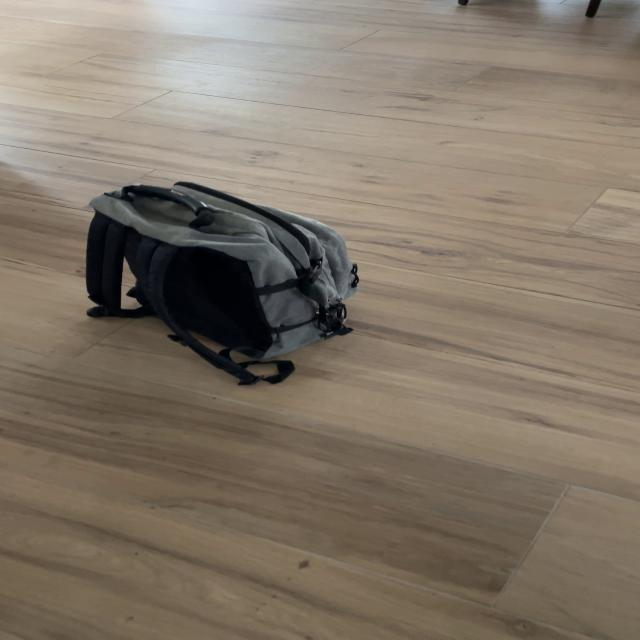backpack: (75, 176, 383, 382)
